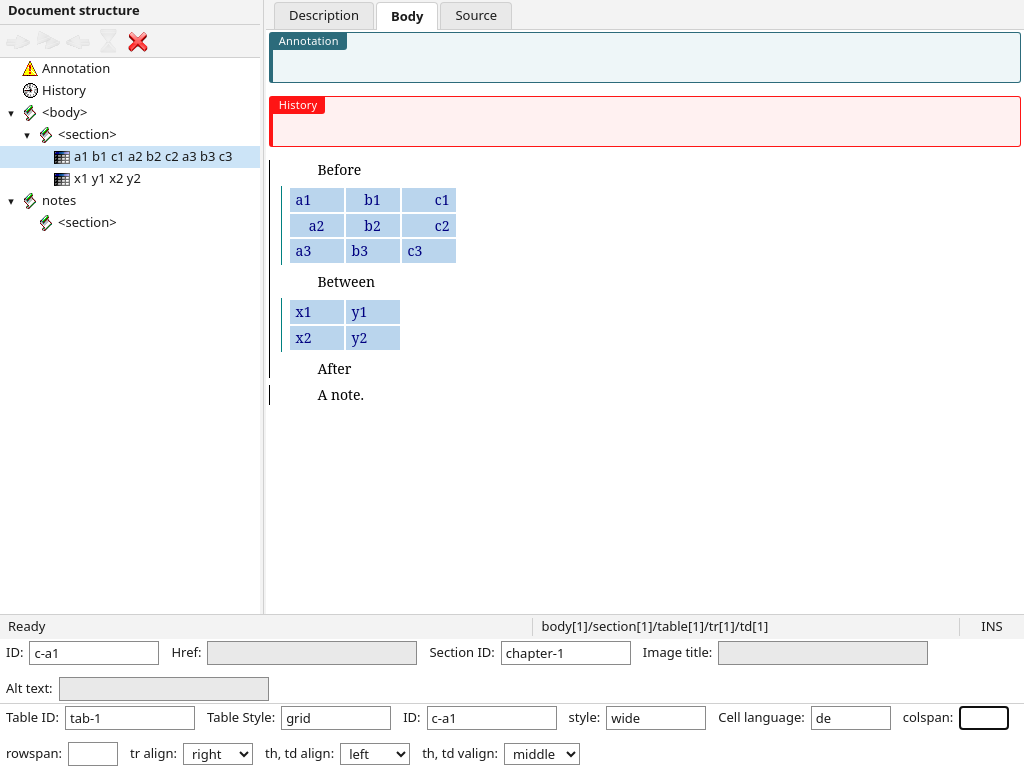
Scenario: Table bar: colspan and rowspan (feature 006, US8) › colspan and rowspan merge and split through the span plan: 3 merges the head cell’s row, 1 and an empty field split; each one undo step
(page scrolled)
Check: the text box with test id "body-editor" is shown, box [269,32,1021,405]
Check: the field with test id "table-bar-cell-id" holds "c-a1", box [426,706,556,730]
In the field with test id "table-bar-colspan": (984, 718) [959,706,1009,730], type "3"
Press Enter in the field with test id "table-bar-colspan", box [959,706,1009,730]
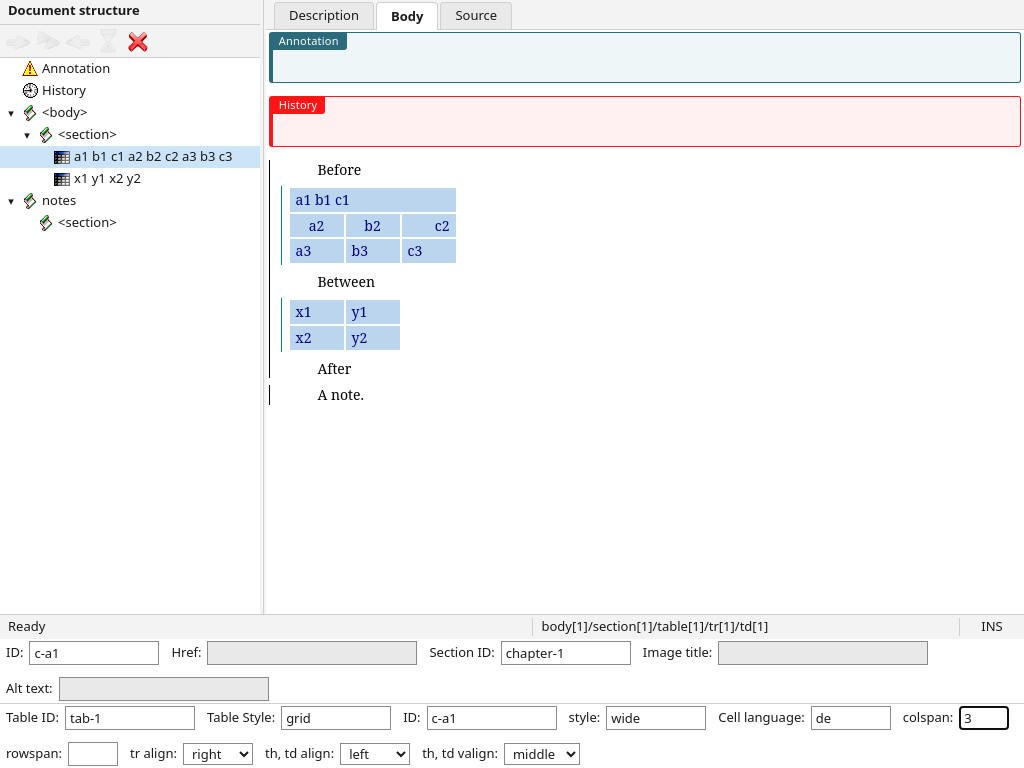
Check: the cell "a1 b1 c1" is shown, box [290,188,456,212]
Replace the text in the field with test id "table-bar-colspan" with "1": (984, 718) [959,706,1009,730]
Press Enter in the field with test id "table-bar-colspan", box [959,706,1009,730]
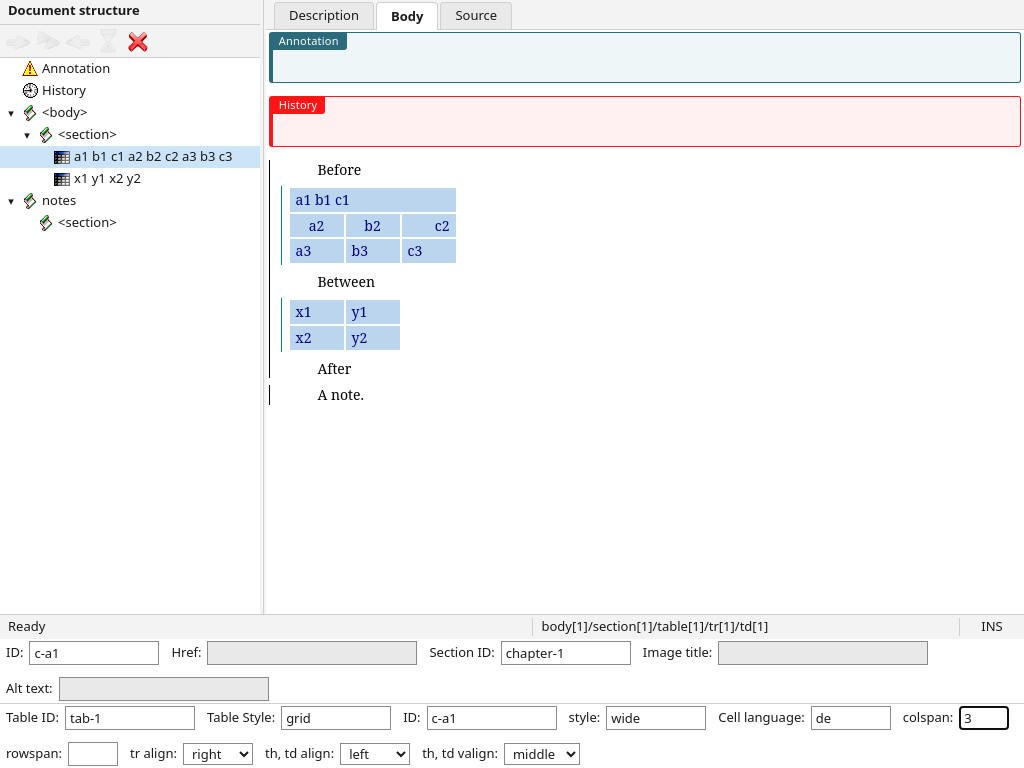
Clear the field with test id "table-bar-colspan": (984, 718) [959,706,1009,730]
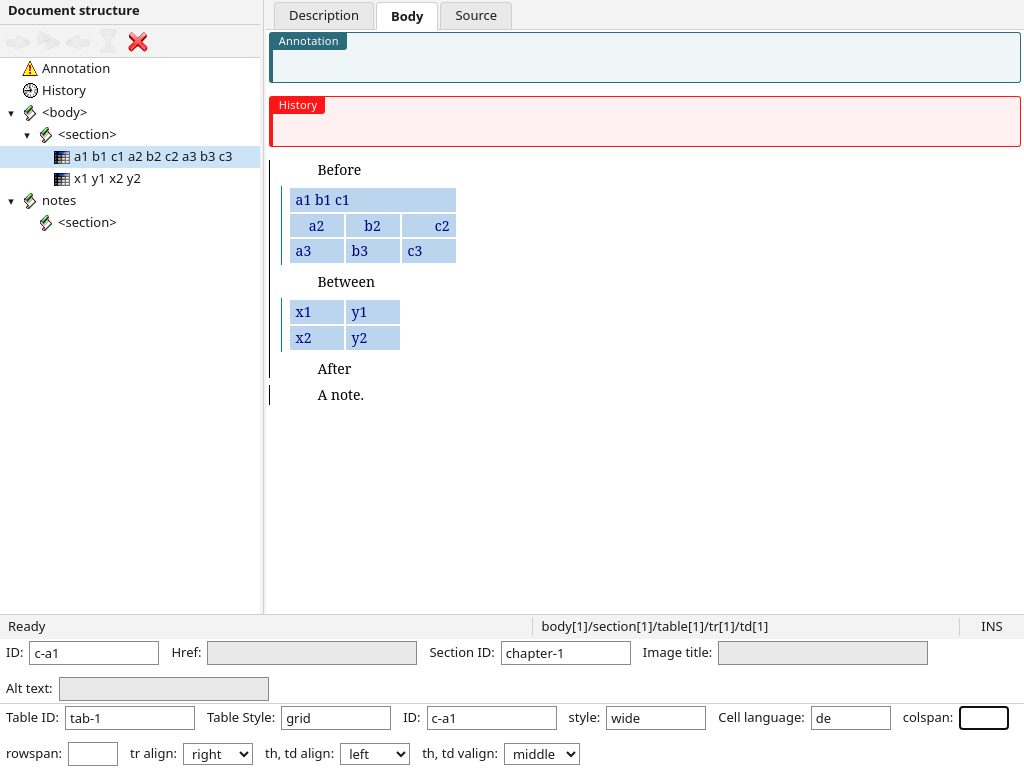
Press Enter in the field with test id "table-bar-colspan", box [959,706,1009,730]
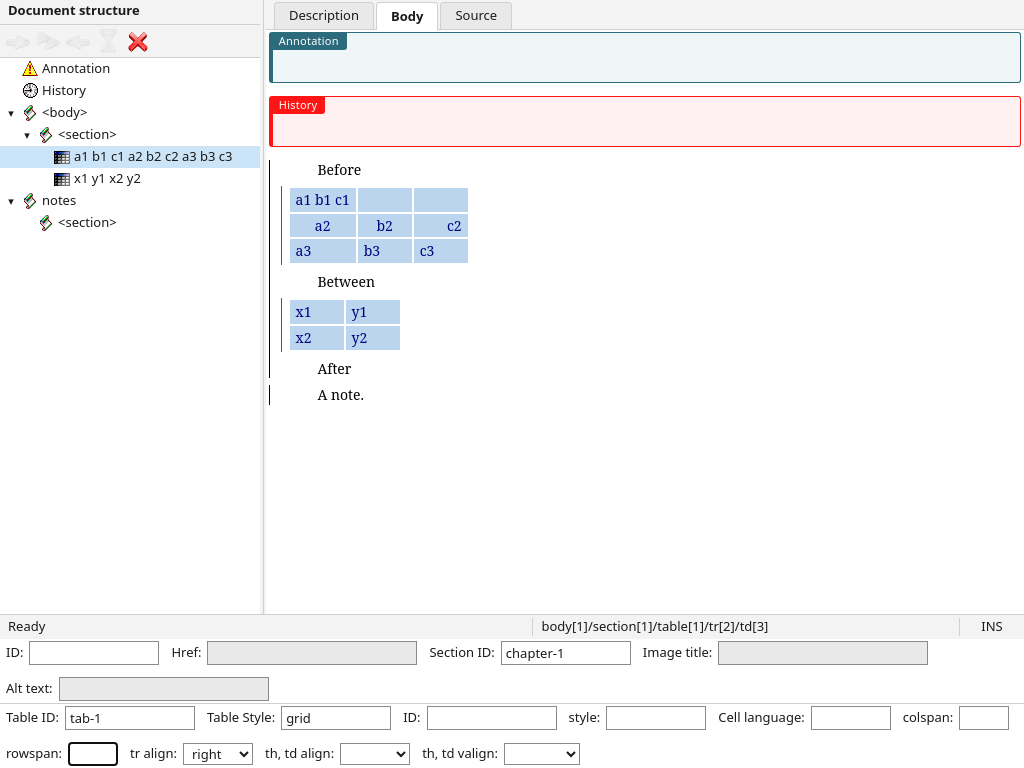
In the field with test id "table-bar-rowspan": (93, 754) [68,742,118,766], type "2"
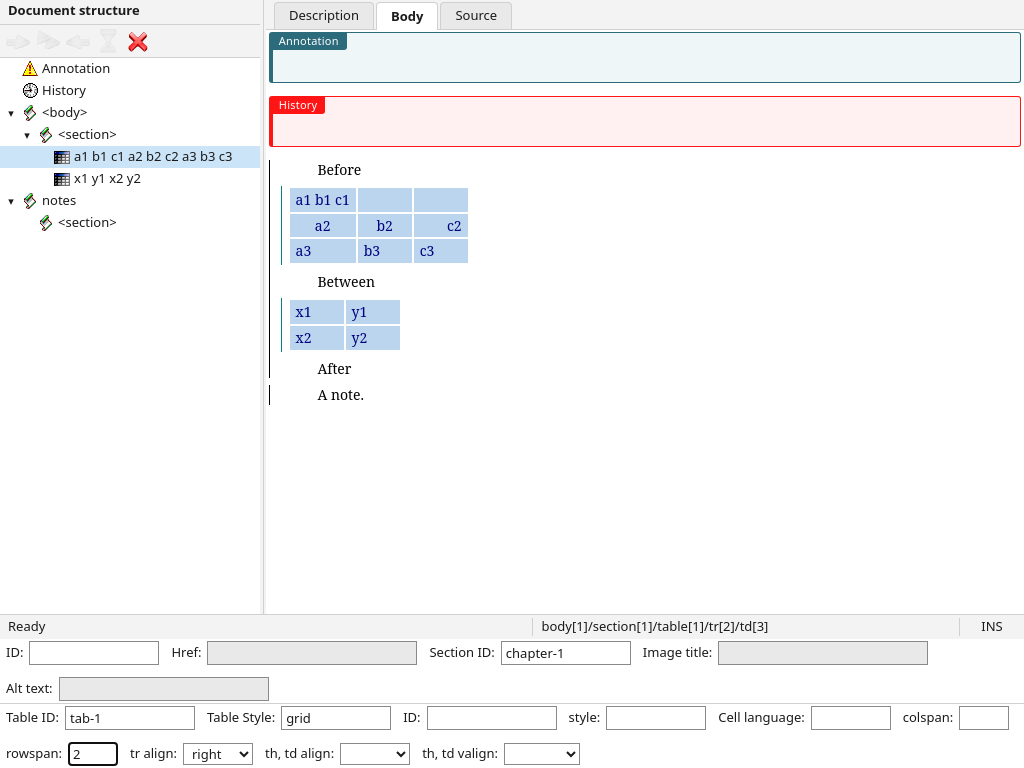
Press Enter in the field with test id "table-bar-rowspan", box [68,742,118,766]
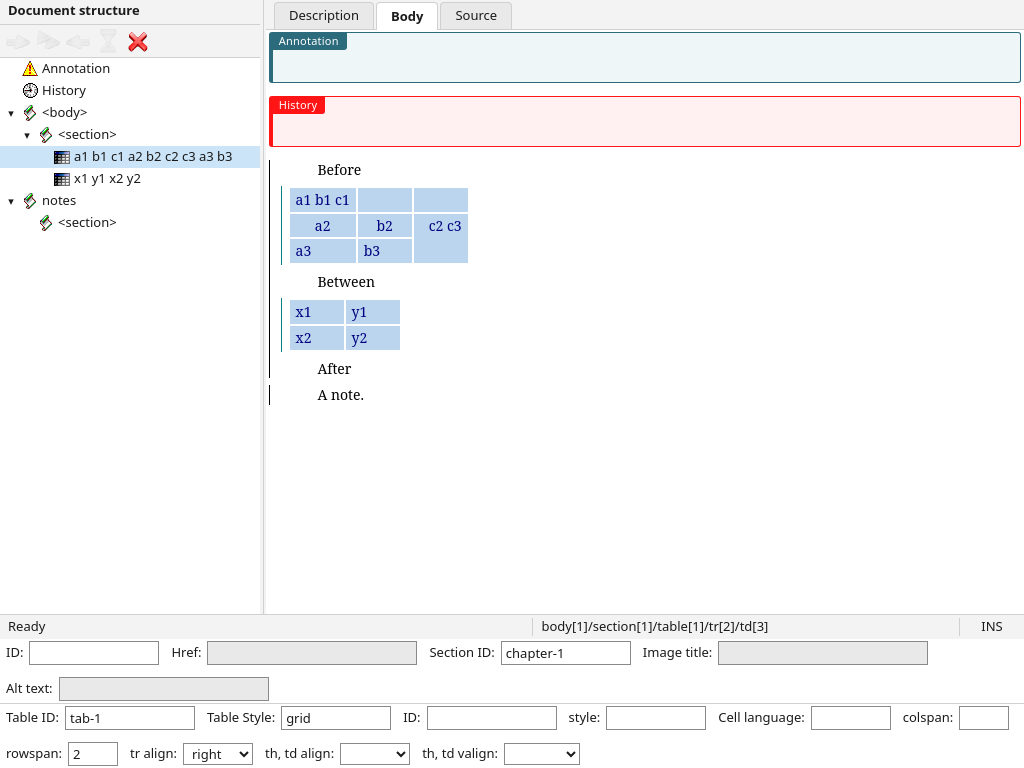
Check: the cell "c2 c3" is shown, box [414,214,468,263]
